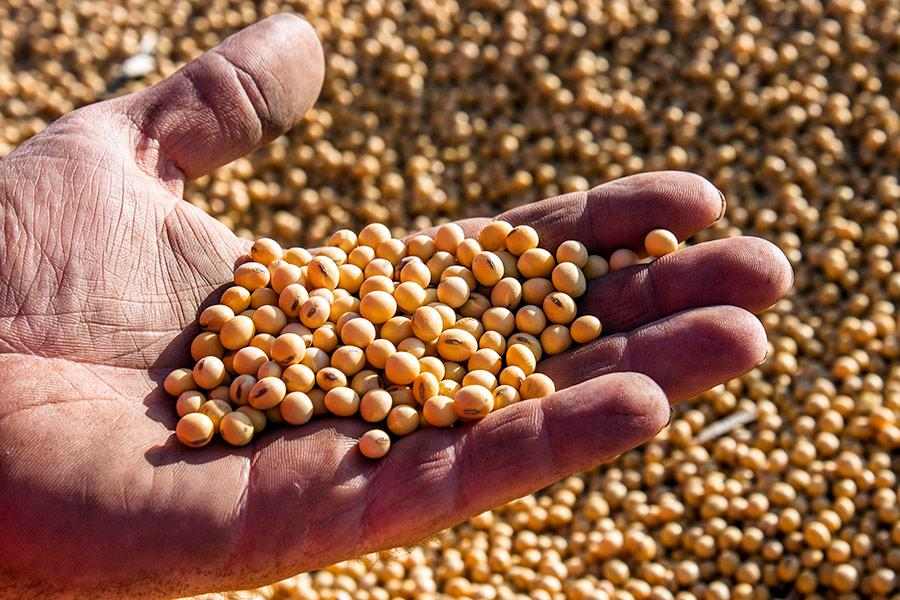soy beans: (3, 0, 897, 598)
turnip: (161, 217, 656, 459)
